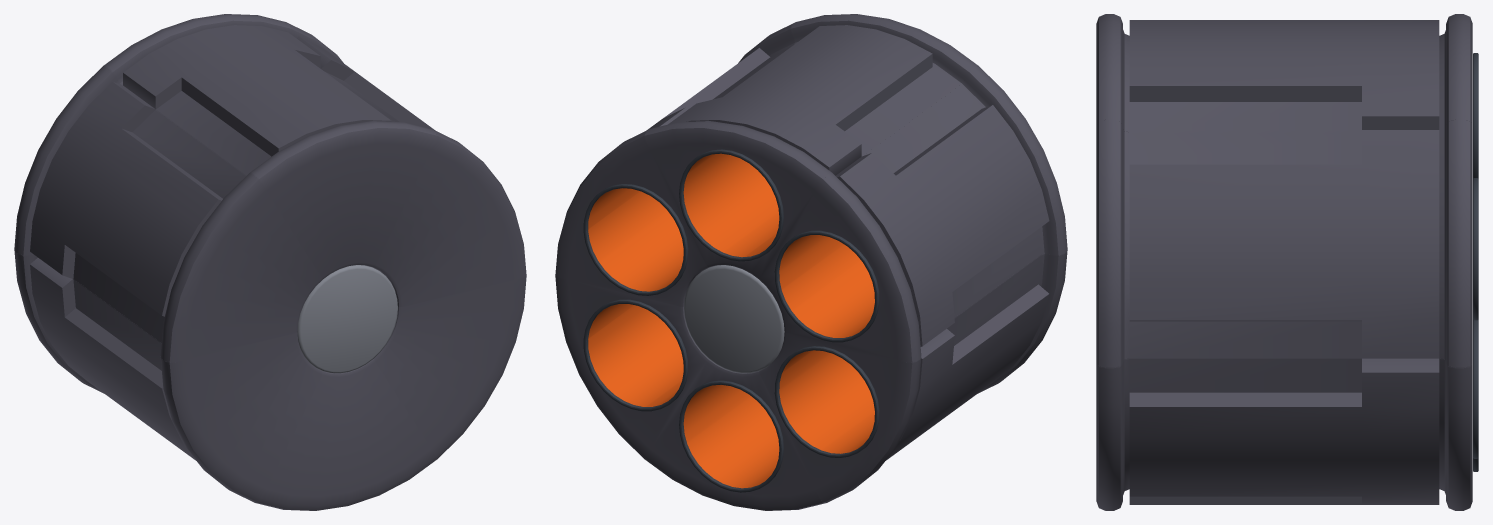
The model's file is main.fbx.
3 views of the same model, side by side, from view 1: azimuth 30°, elevation 25°; view 2: azimuth 150°, elevation 25°; view 3: azimuth 270°, elevation 25° (orthographic). The views are drawn at different scales.
Parts seen in each view (by area): view 1: 2, 1, 3, 6, 4, 5, base; view 2: 2, 1, 3, 6, 4, 5, base; view 3: 6, 5, 1, 4.
Part boxes in pixels (box(x1,y1,x2,y2)): 2: box(14, 65, 322, 363); 1: box(103, 14, 437, 278); 3: box(14, 250, 322, 502); 6: box(286, 22, 526, 306); 4: box(256, 359, 437, 510); 5: box(374, 275, 526, 459); base: box(297, 265, 397, 373); 2: box(759, 65, 1067, 363); 1: box(644, 14, 978, 278); 3: box(759, 250, 1067, 502); 6: box(555, 22, 795, 306); 4: box(644, 359, 825, 510); 5: box(555, 275, 707, 459); base: box(684, 265, 784, 373); 6: box(1096, 119, 1478, 368); 5: box(1096, 319, 1478, 510); 1: box(1096, 14, 1478, 178); 4: box(1129, 458, 1478, 509).
Size of the model in its own units: 161 by 161 by 123.
